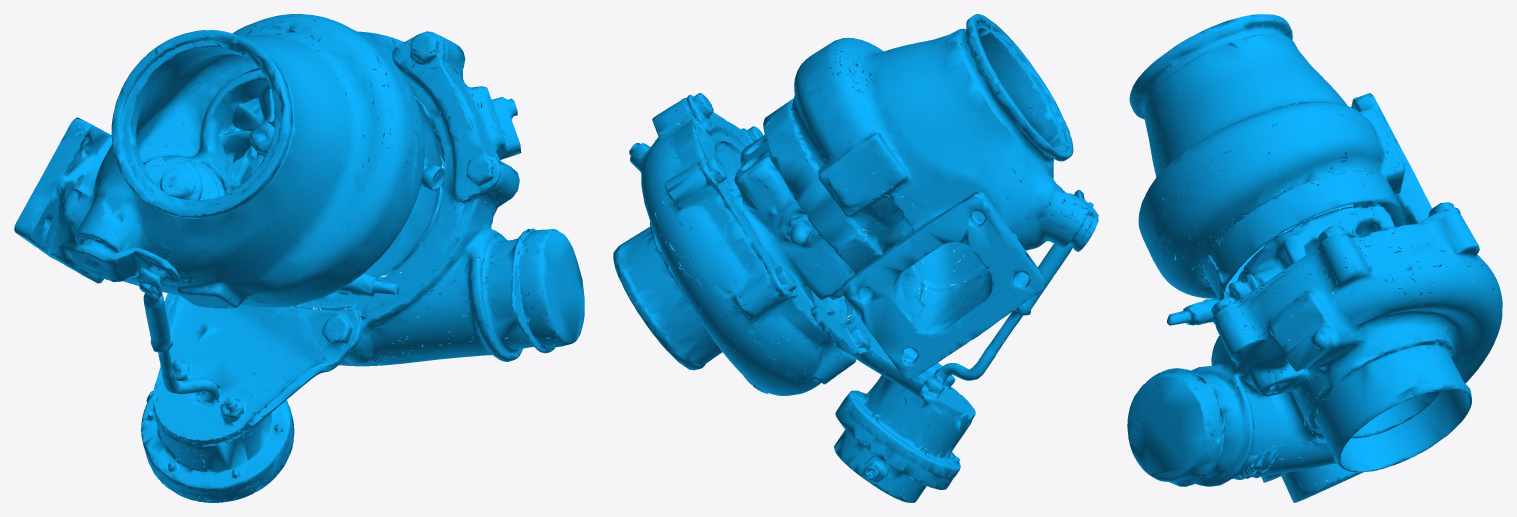
File: turbocharger.glb
The picture shows the model from 3 angles, left to right: view 1: azimuth 30°, elevation 25°; view 2: azimuth 150°, elevation 25°; view 3: azimuth 270°, elevation 25°; orthographic projection. The views are drawn at different scales.
Parts seen in each view (by area): view 1: Object_2; view 2: Object_2; view 3: Object_2.
Boxes of the visible parts, x1,y1,x2,y2 form: Object_2: (14, 14, 584, 502); Object_2: (613, 14, 1098, 502); Object_2: (1127, 14, 1502, 502).
Size of the model in its own units: 262 by 262 by 191.
